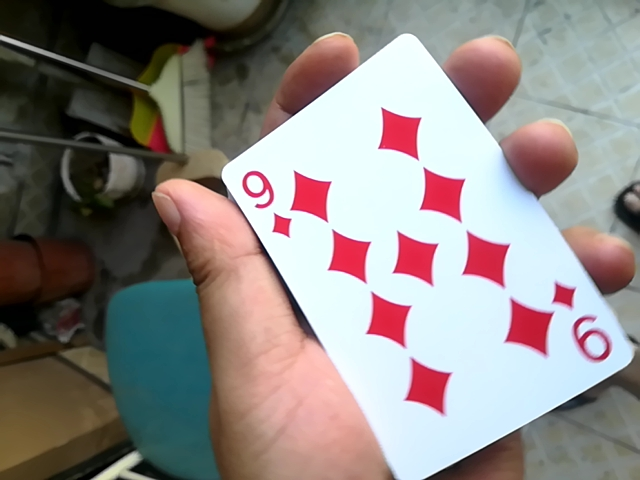fk 9: (209, 25, 625, 476)
